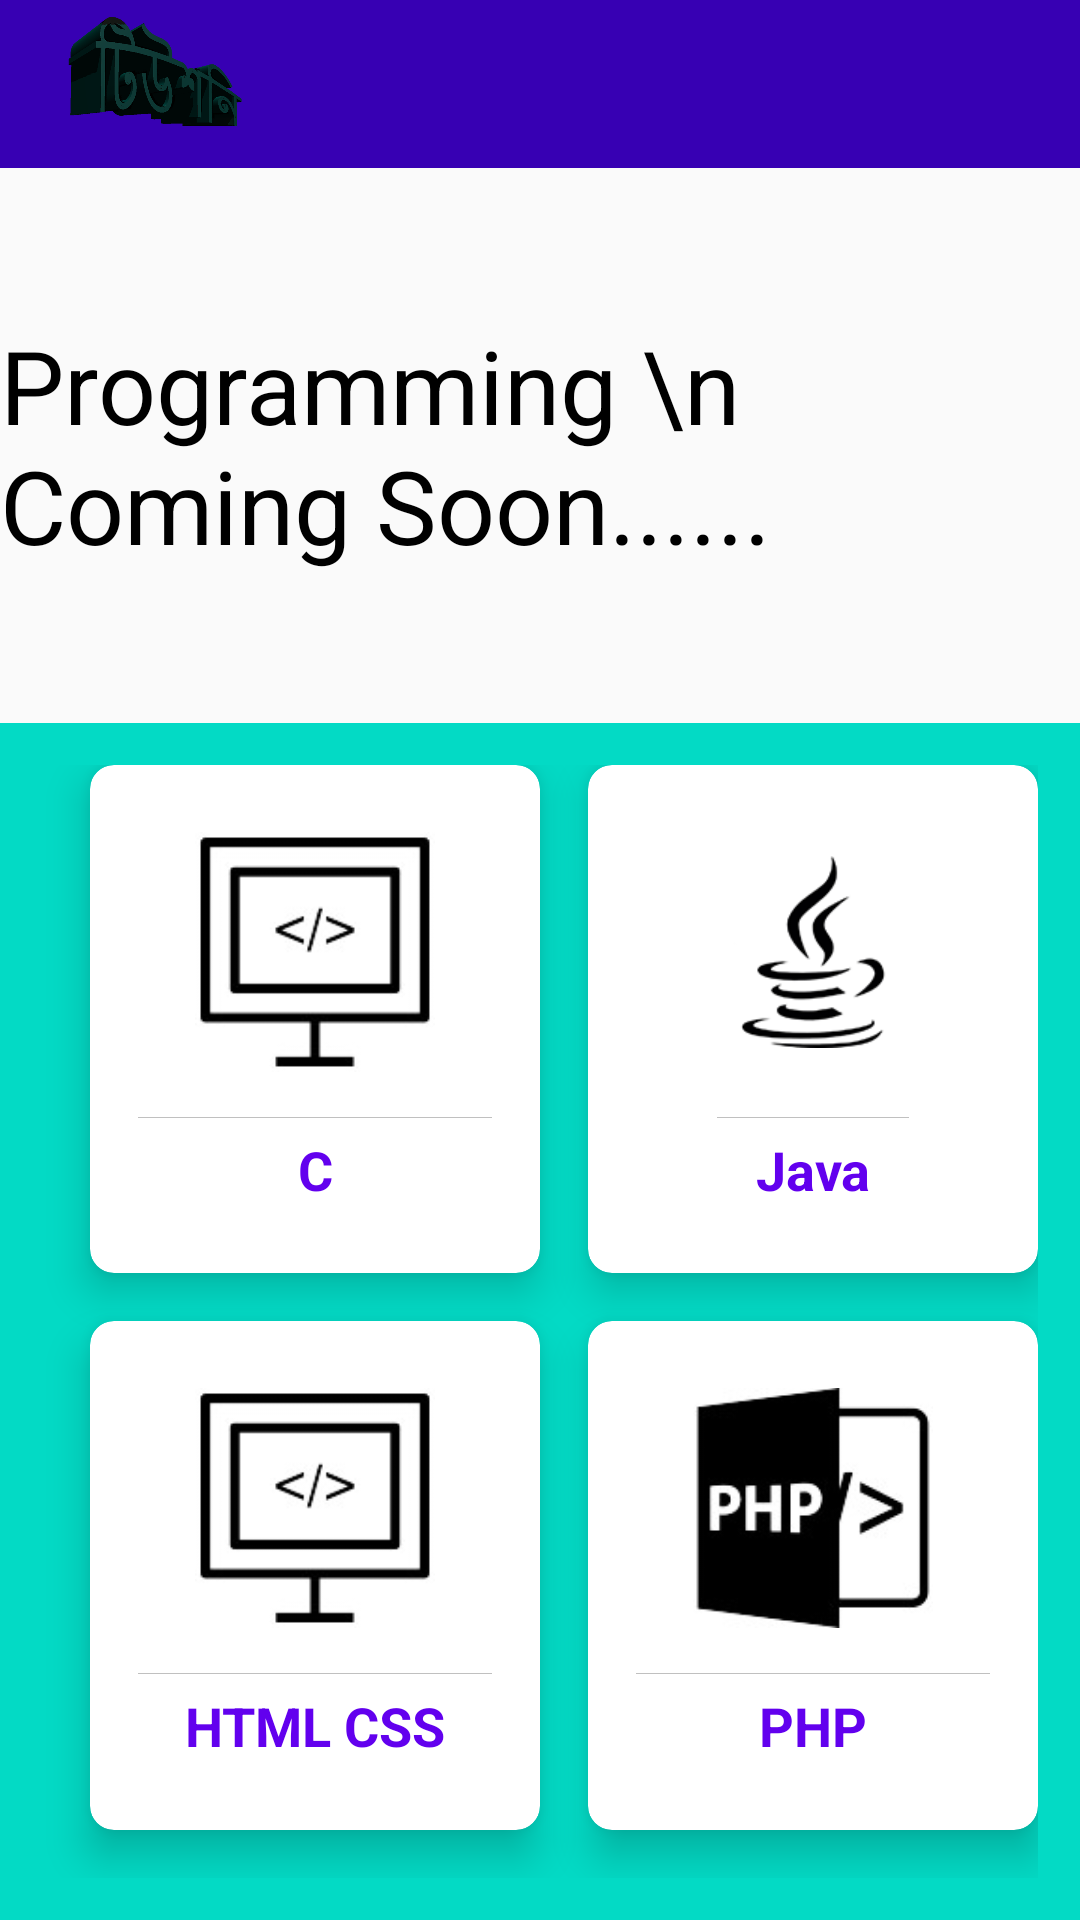

Screen size 1080px x 1920px. Icon name, then its box in pixels as region(x1, y1, x2, y2):
programming: region(200, 837, 430, 1067), region(200, 1393, 430, 1623)
